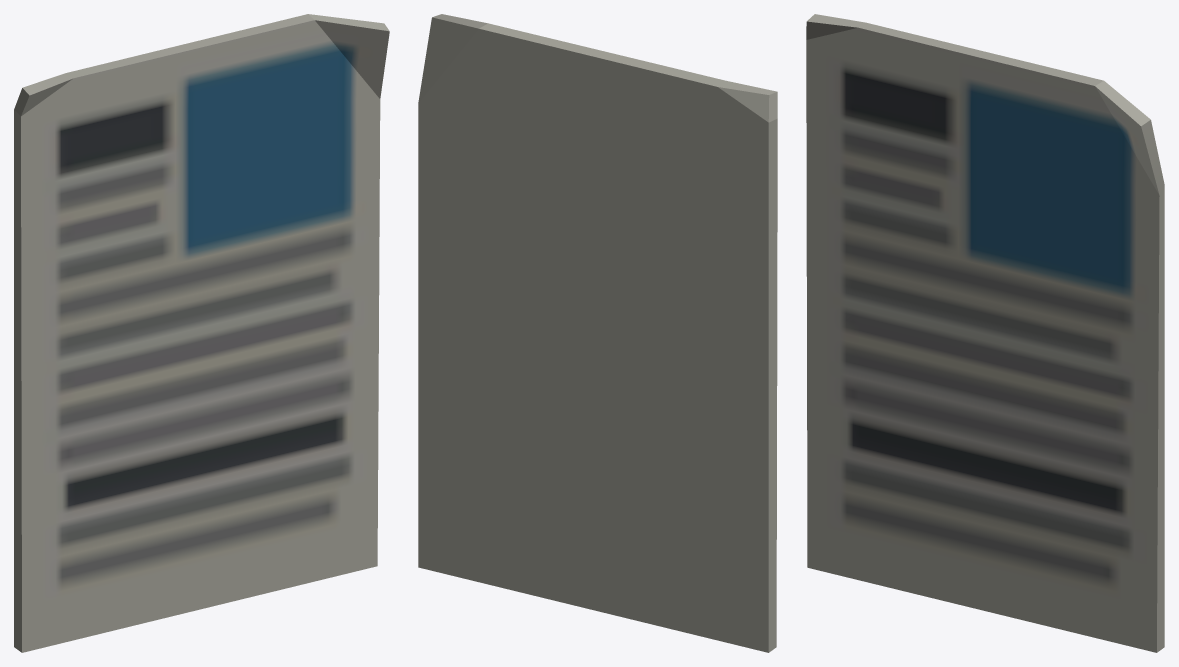
Rendered from SM_Prop_Poster_06_789.obj.
The picture shows the model from 3 angles, left to right: view 1: azimuth 30°, elevation 25°; view 2: azimuth 150°, elevation 25°; view 3: azimuth 330°, elevation 25°; orthographic projection.
Parts seen in each view (by area): view 1: SM_Prop_Poster_06_0; view 2: SM_Prop_Poster_06_0; view 3: SM_Prop_Poster_06_0.
Boxes of the visible parts, <box> form: SM_Prop_Poster_06_0: <box>14,14,389,652</box>; SM_Prop_Poster_06_0: <box>418,14,777,652</box>; SM_Prop_Poster_06_0: <box>806,14,1164,652</box>.
Size of the model in its own units: 0.2615 by 0.3909 by 0.0278.
1 material, 1 textured.
